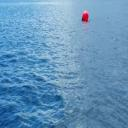red: (82, 11, 89, 21)
